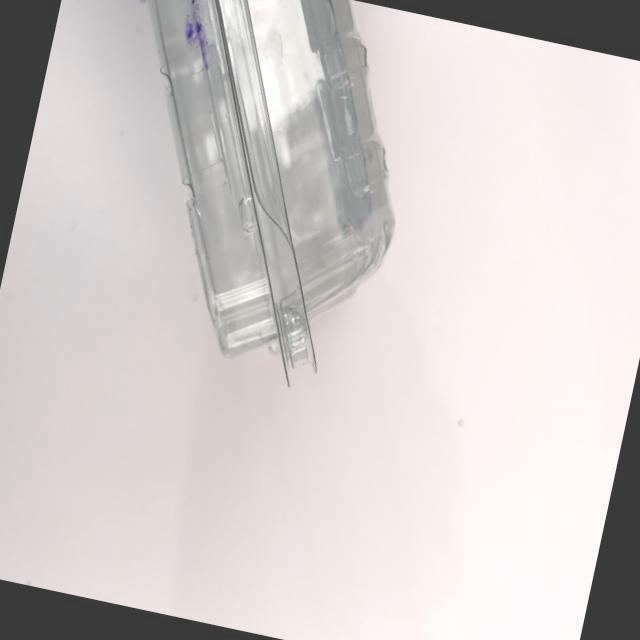plastic: (17, 0, 451, 440)
